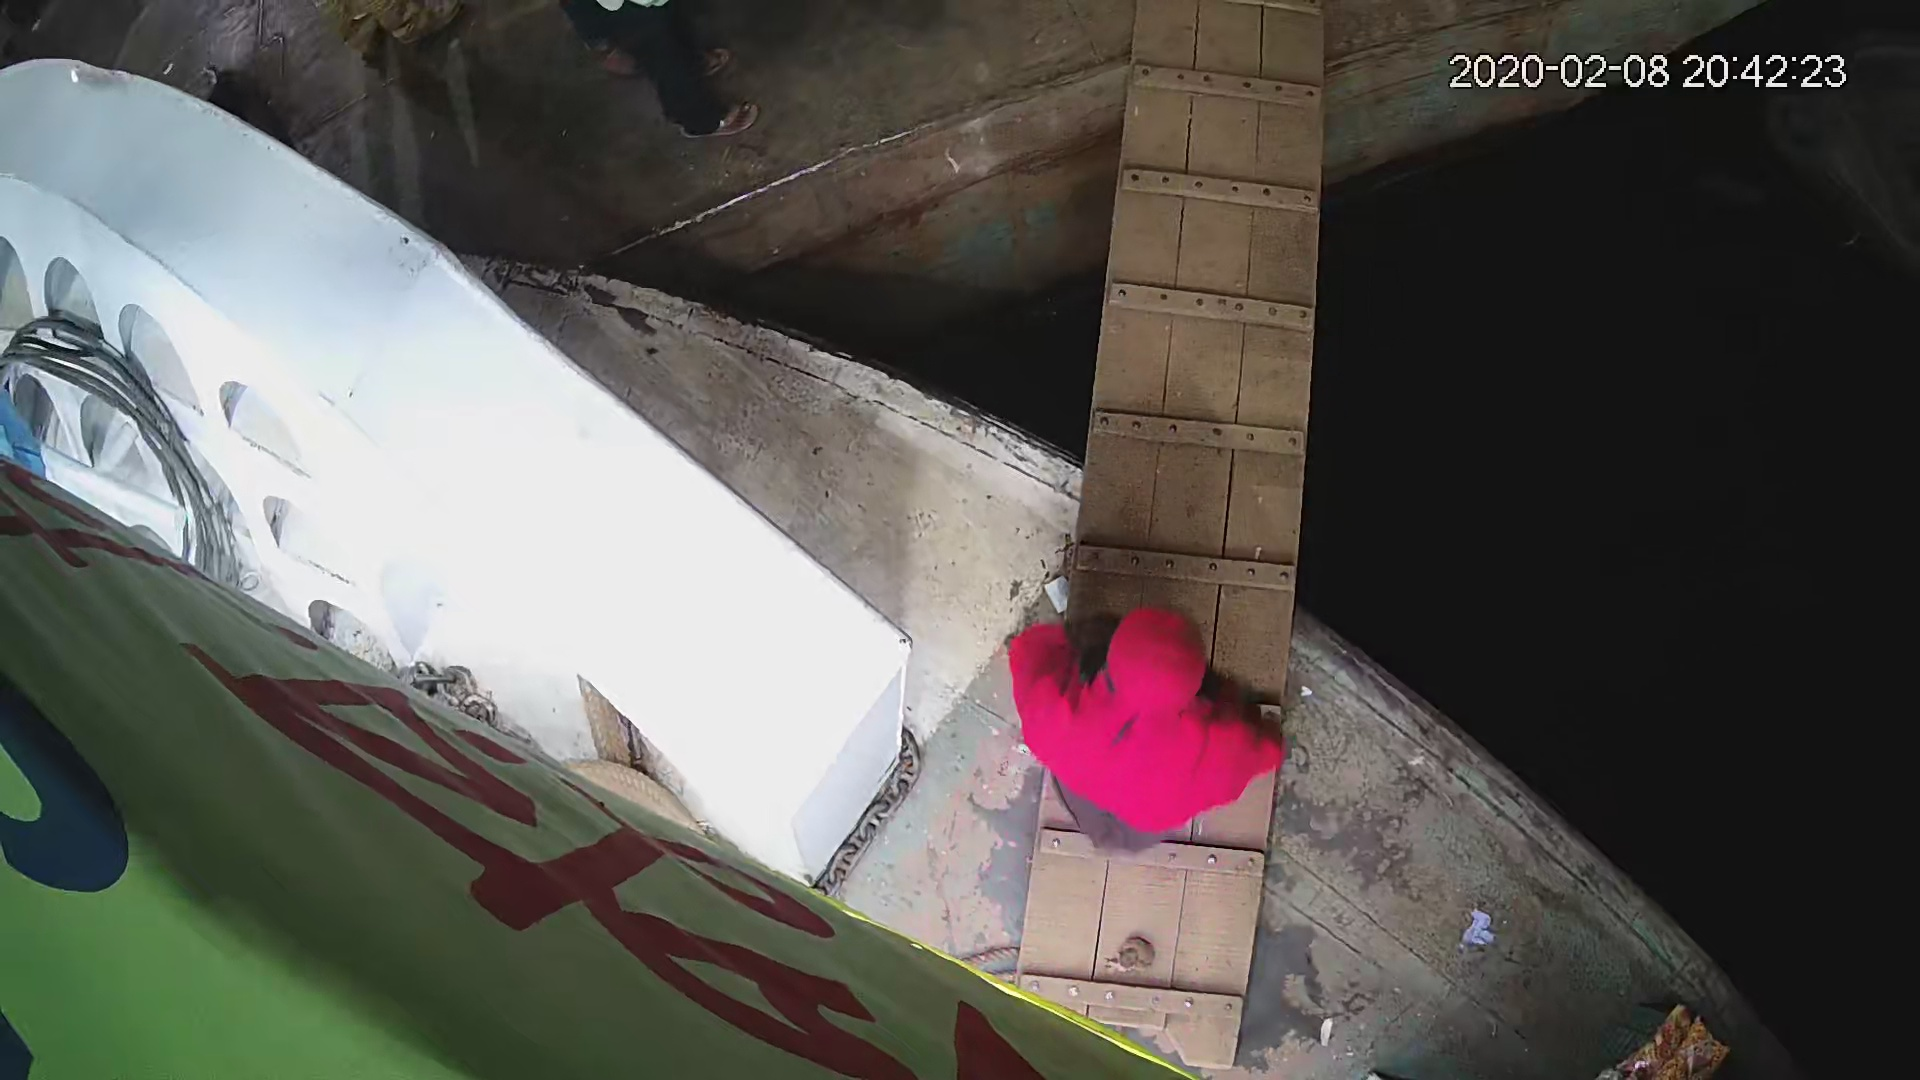person: (990, 611, 1304, 861)
